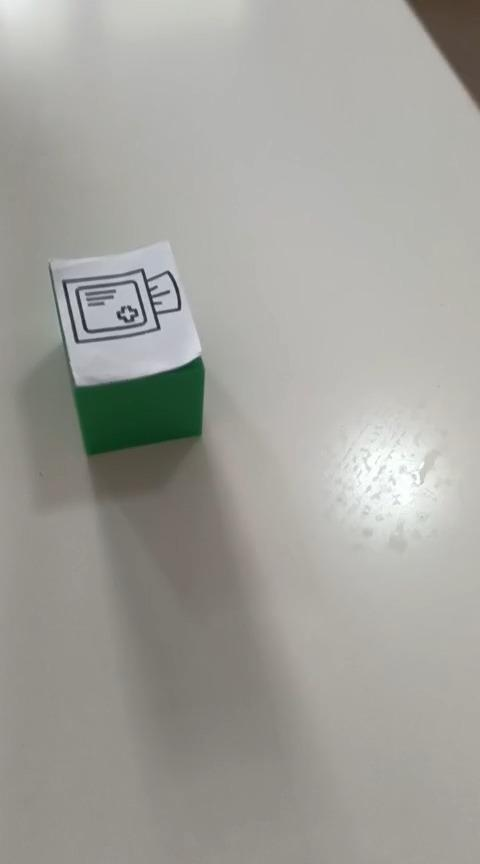Gauze: (46, 238, 205, 456)
